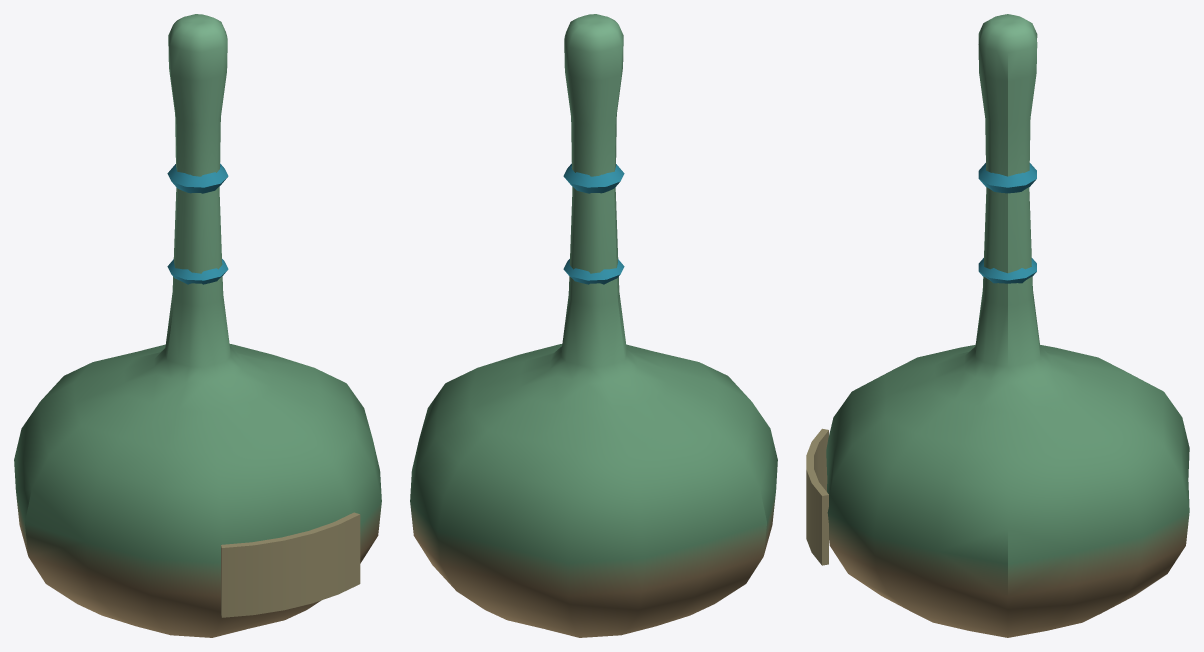
The model's file is Madde_Gul_Suyu.fbx.
3 views of the same model, side by side, from view 1: azimuth 30°, elevation 25°; view 2: azimuth 150°, elevation 25°; view 3: azimuth 270°, elevation 25° (orthographic).
Visible parts, largest first — view 1: Madde_Gul_Suyu_Model; view 2: Madde_Gul_Suyu_Model; view 3: Madde_Gul_Suyu_Model.
Boxes of the visible parts, box(x1,y1,x2,y2) form: Madde_Gul_Suyu_Model: box(14, 14, 381, 637); Madde_Gul_Suyu_Model: box(410, 14, 777, 637); Madde_Gul_Suyu_Model: box(806, 14, 1189, 637).
Bounding box in the file's own units: 0.1325 × 0.2117 × 0.1273.
